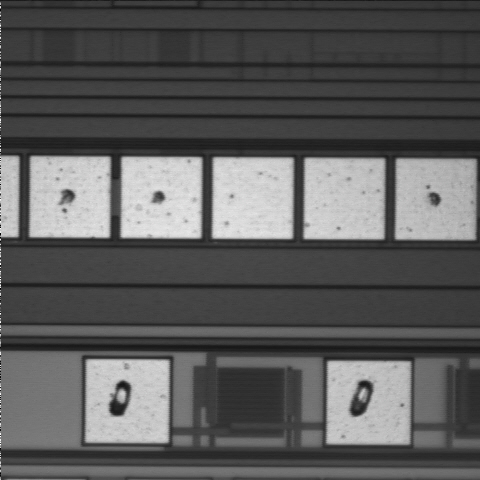pad: (86, 360, 169, 443), (327, 361, 410, 444), (121, 157, 201, 238), (213, 158, 293, 239), (30, 157, 110, 237), (304, 159, 384, 239), (396, 160, 474, 239)
